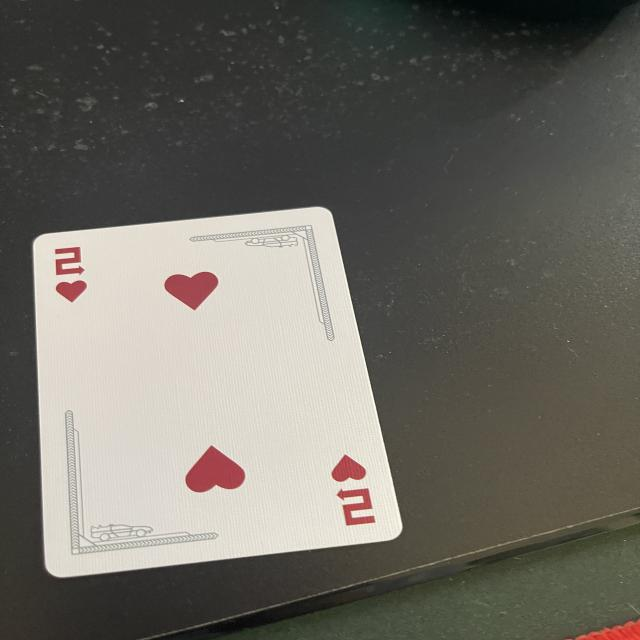2 of hearts: (32, 207, 406, 579)
